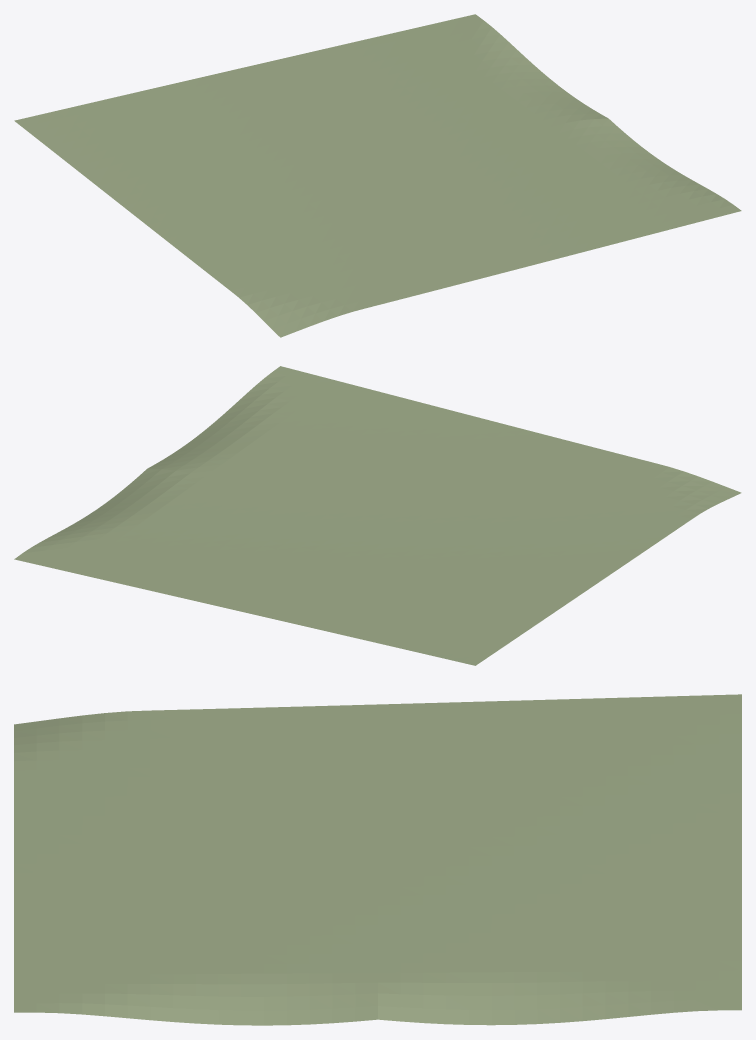
Rendered from gardens-5-0.glb.
The picture shows the model from 3 angles, top to bottom: view 1: azimuth 30°, elevation 25°; view 2: azimuth 150°, elevation 25°; view 3: azimuth 270°, elevation 25°; orthographic projection. The views are drawn at different scales.
Visible parts, largest first — view 1: gardens-5-0; view 2: gardens-5-0; view 3: gardens-5-0.
Boxes of the visible parts, x1,y1,x2,y2 form: gardens-5-0: (14, 14, 741, 337); gardens-5-0: (14, 366, 741, 665); gardens-5-0: (14, 694, 741, 1025).
Size of the model in its own units: 256 by 11.67 by 256.
